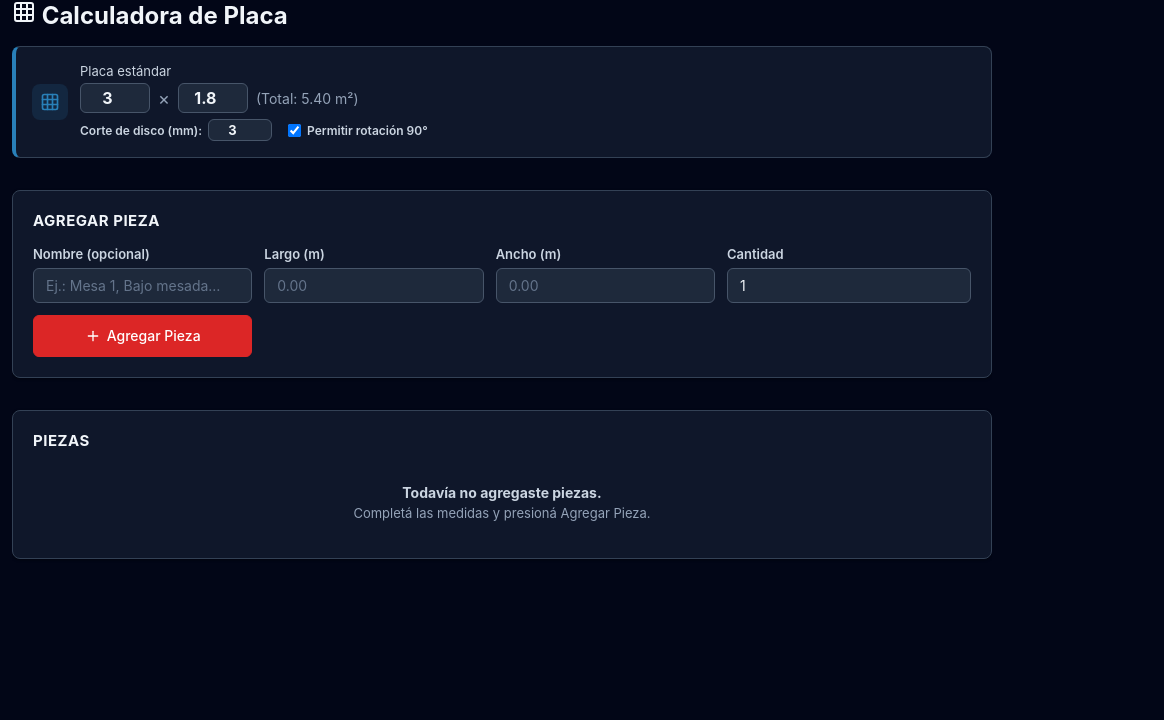
Scenario: CalculatorPage — regresiones de funcionamiento › agrega una pieza con nombre, medidas y cantidad, y actualiza resultados
In the field with placeholder "Ej.: Mesa 1, Bajo mesada…": (143, 286) [33,268,252,303], type "Mesa 1"
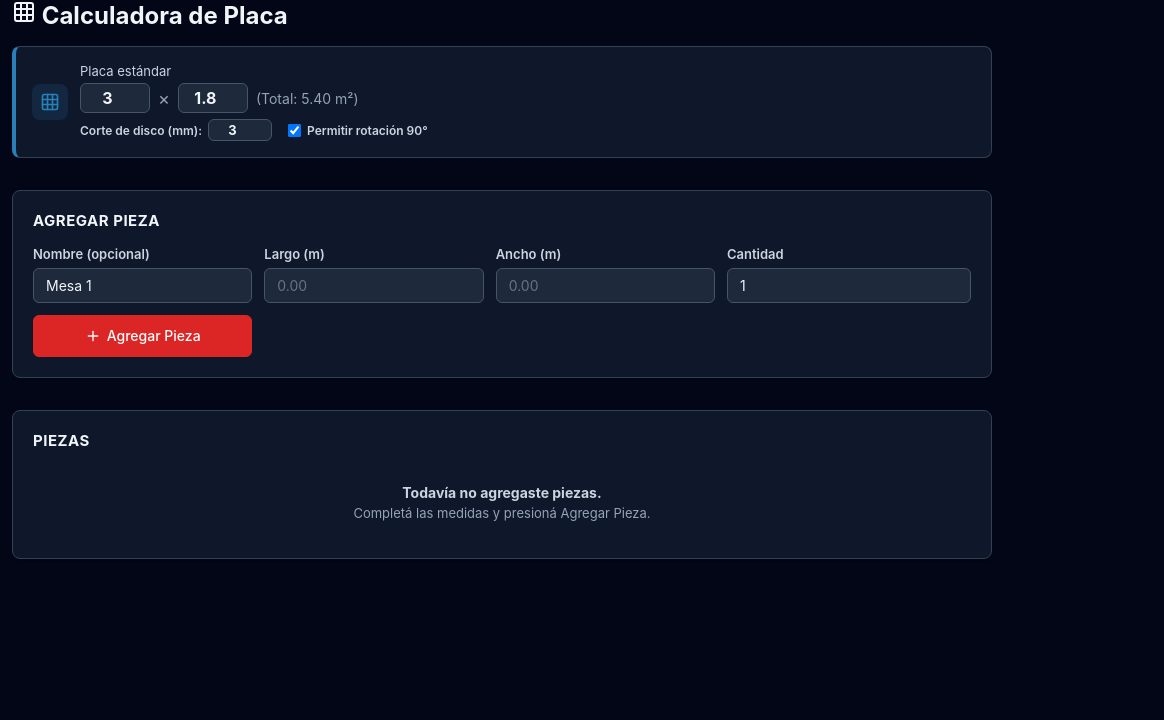
In the number field with placeholder "0.00" below "Largo (m)": (374, 286) [264,268,484,303], type "1.20"
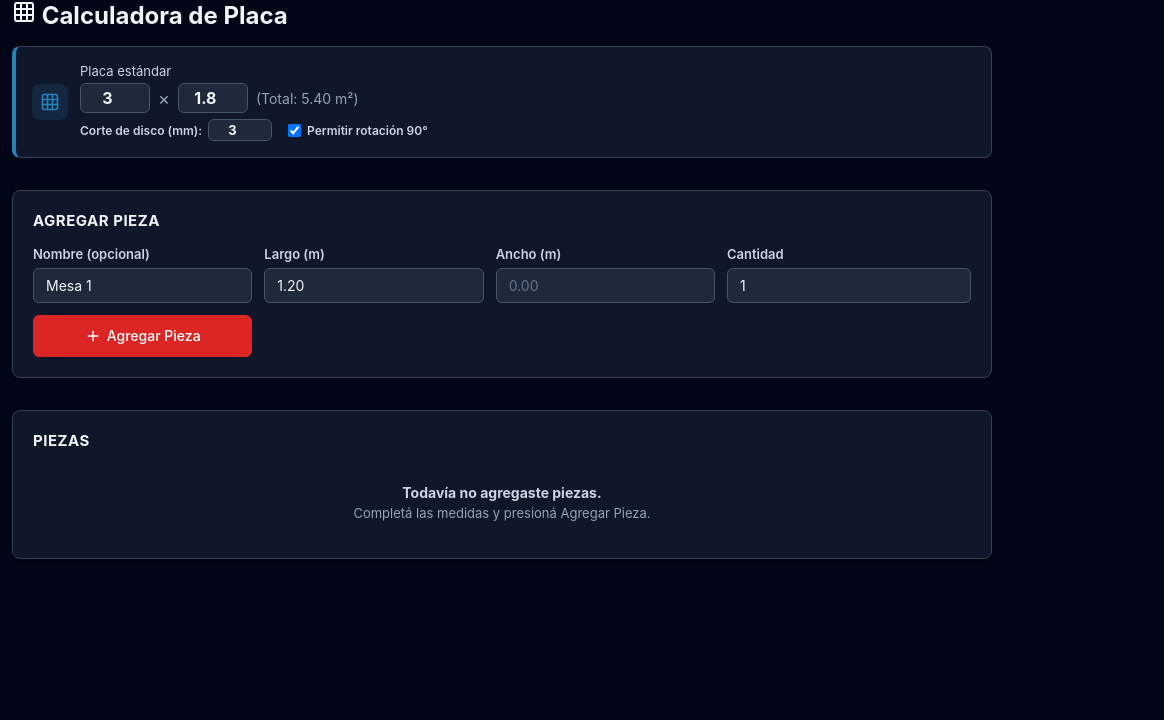
In the number field with placeholder "0.00": (605, 286) [496,268,715,303], type "0.60"
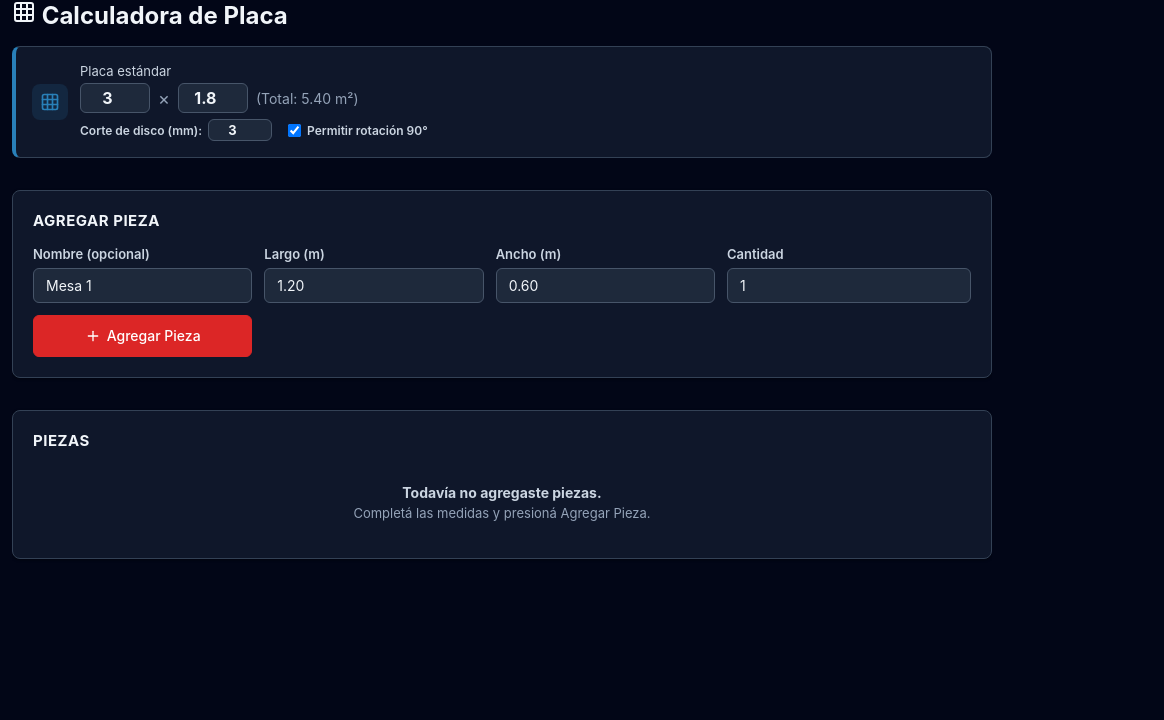
Replace the text in the number field below "Cantidad" with "2": (849, 286) [727,268,971,303]
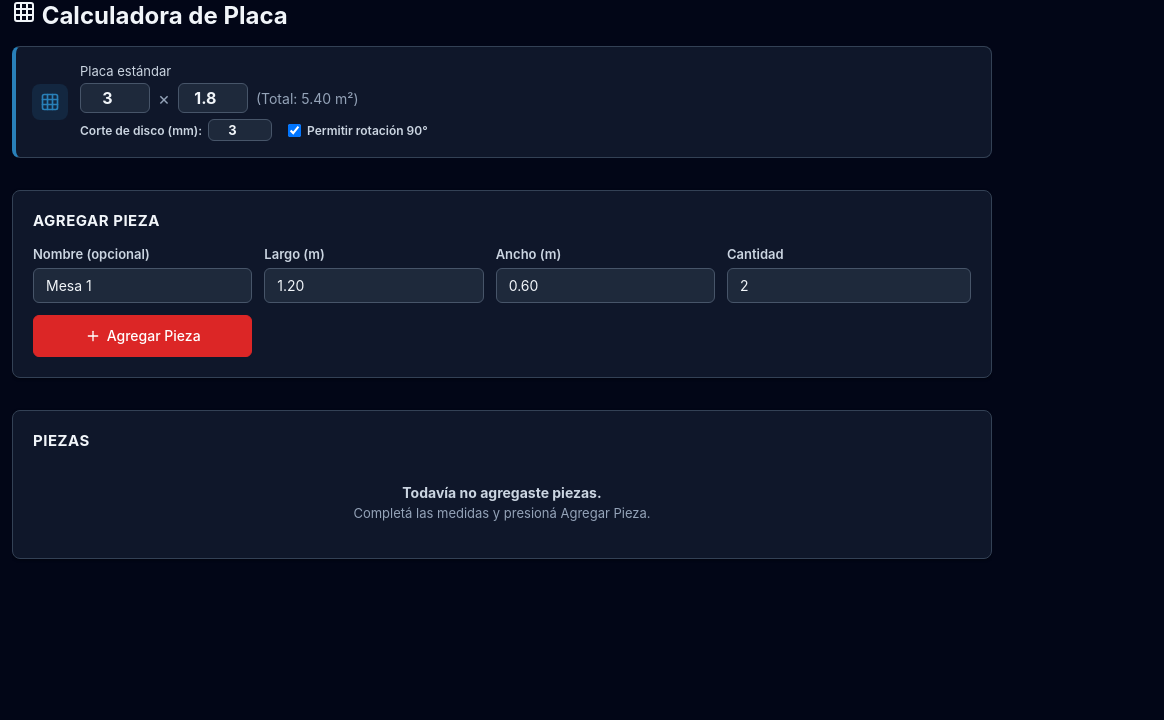
Click the button "Agregar Pieza": (143, 336) [33,315,252,357]
(page scrolled)
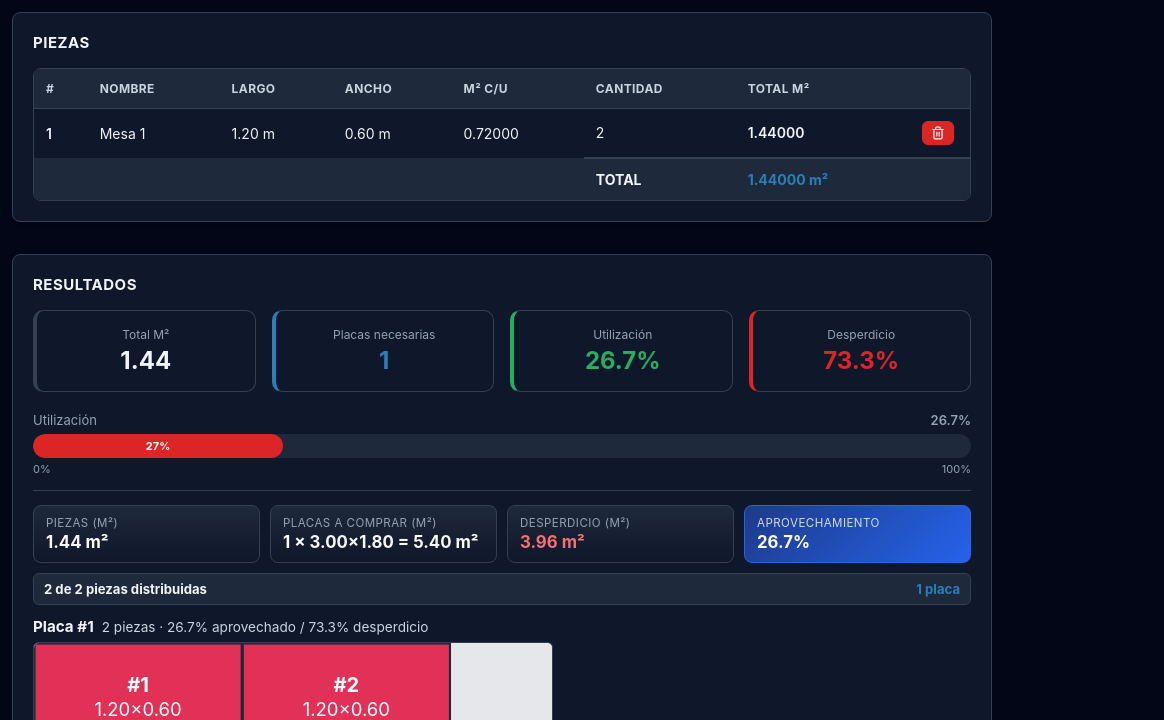
Now the text "Mesa 1" is shown, box [88,108,220,158]
Now the text "1.20 m" is shown, box [220,108,333,158]
Now the text "0.60 m" is shown, box [333,108,452,158]
